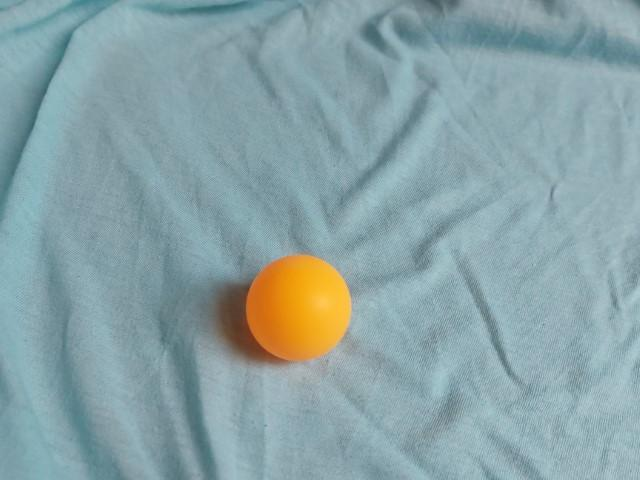oball: (236, 248, 362, 369)
